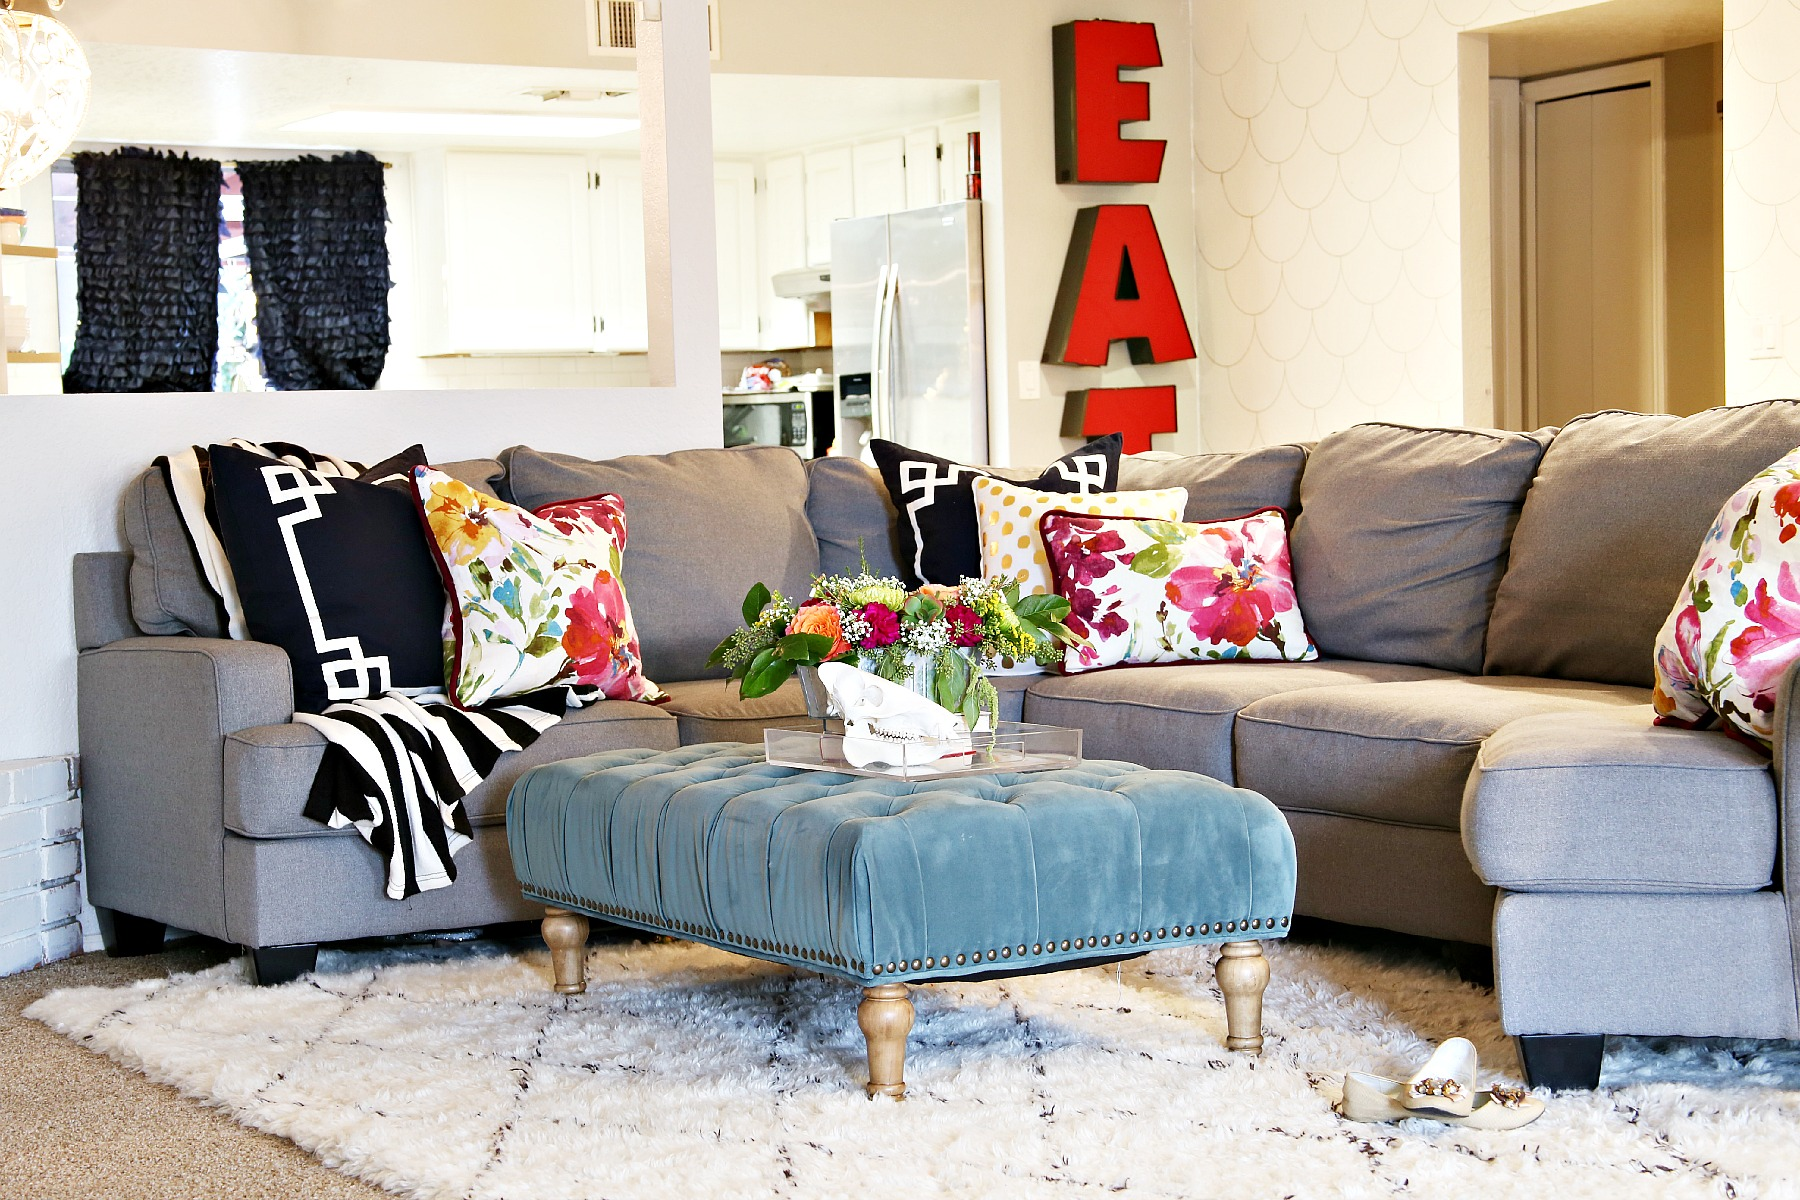biru: (537, 763, 1291, 958)
hitam: (224, 454, 455, 688)
merah: (1067, 200, 1176, 366), (1074, 21, 1162, 186), (1075, 378, 1180, 447)
